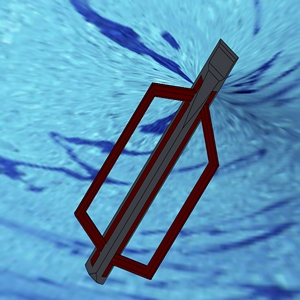submarine: (44, 8, 265, 296)
